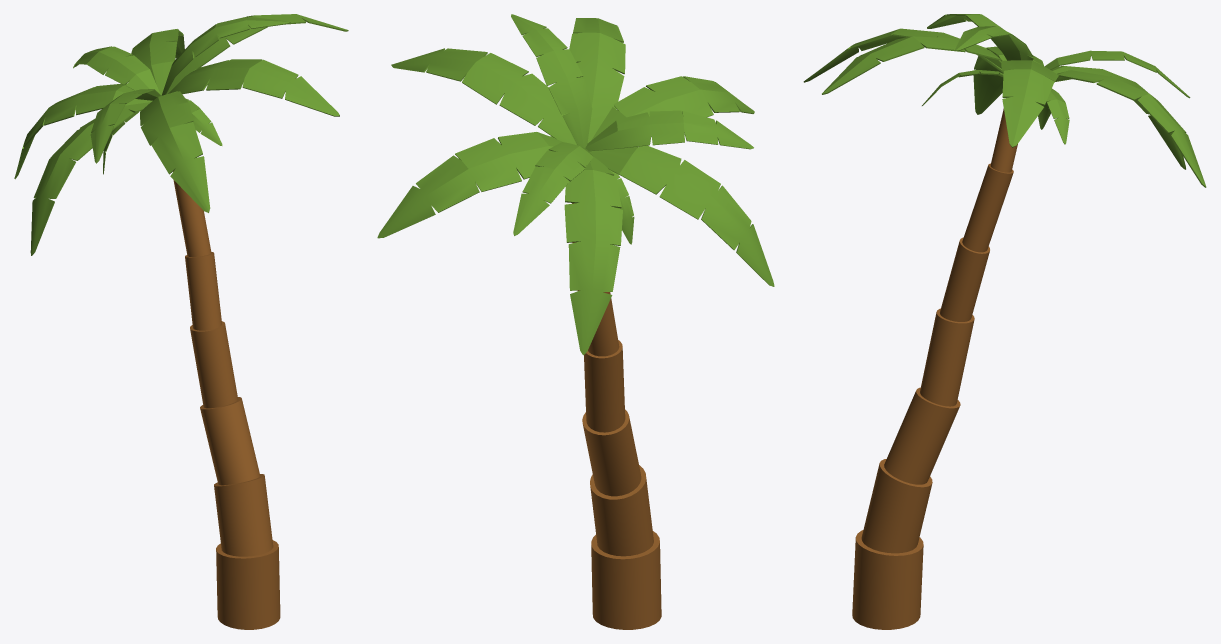
Rendered from Palm5.fbx.
3 renders of one model, left to right at view 1: azimuth 30°, elevation 25°; view 2: azimuth 150°, elevation 25°; view 3: azimuth 270°, elevation 25°, orthographic. The views are drawn at different scales.
Visible parts, largest first — view 1: Palm; view 2: Palm; view 3: Palm.
Part boxes in pixels (x1,y1,x2,y2): Palm: (14, 14, 348, 629); Palm: (377, 14, 774, 629); Palm: (803, 14, 1206, 629).
Bounding box in the file's own units: 285 × 454 × 274.
